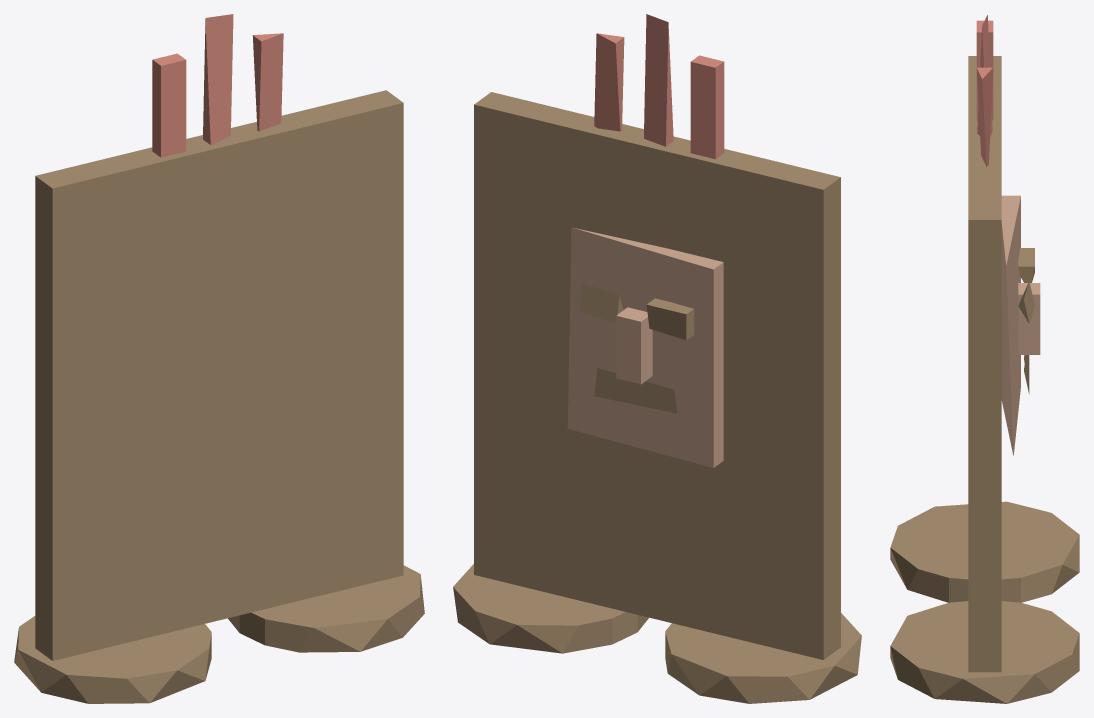
File: 18-Casas_cuadro_ancestral.glb
3 renders of one model, left to right at view 1: azimuth 30°, elevation 25°; view 2: azimuth 150°, elevation 25°; view 3: azimuth 270°, elevation 25°, orthographic. The views are drawn at different scales.
Visible parts, largest first — view 1: SM_Cuadro_M_Mueble_Madera_Oscura, SM_Cuadro_M_Mueble_Tela_Roja; view 2: SM_Cuadro_M_Mueble_Madera_Oscura, SM_Cuadro_M_Mueble_Barro, SM_Cuadro_M_Mueble_Tela_Roja, SM_Cuadro_M_Mueble_Madera_Oscura_Mueble_Barro; view 3: SM_Cuadro_M_Mueble_Madera_Oscura, SM_Cuadro_M_Mueble_Barro, SM_Cuadro_M_Mueble_Madera_Oscura_Mueble_Barro, SM_Cuadro_M_Mueble_Tela_Roja.
Boxes of the visible parts, x1=… form: SM_Cuadro_M_Mueble_Madera_Oscura: x1=14, y1=90, x2=424, y2=703; SM_Cuadro_M_Mueble_Tela_Roja: x1=152, y1=14, x2=283, y2=157; SM_Cuadro_M_Mueble_Madera_Oscura: x1=453, y1=92, x2=861, y2=703; SM_Cuadro_M_Mueble_Barro: x1=567, y1=227, x2=723, y2=467; SM_Cuadro_M_Mueble_Tela_Roja: x1=594, y1=14, x2=724, y2=159; SM_Cuadro_M_Mueble_Madera_Oscura_Mueble_Barro: x1=579, y1=283, x2=694, y2=413; SM_Cuadro_M_Mueble_Madera_Oscura: x1=890, y1=56, x2=1079, y2=703; SM_Cuadro_M_Mueble_Barro: x1=1001, y1=195, x2=1020, y2=455; SM_Cuadro_M_Mueble_Madera_Oscura_Mueble_Barro: x1=1018, y1=248, x2=1040, y2=394; SM_Cuadro_M_Mueble_Tela_Roja: x1=976, y1=15, x2=993, y2=166.
Bounding box in the file's own units: 0.7562 × 1.19 × 0.3411.
